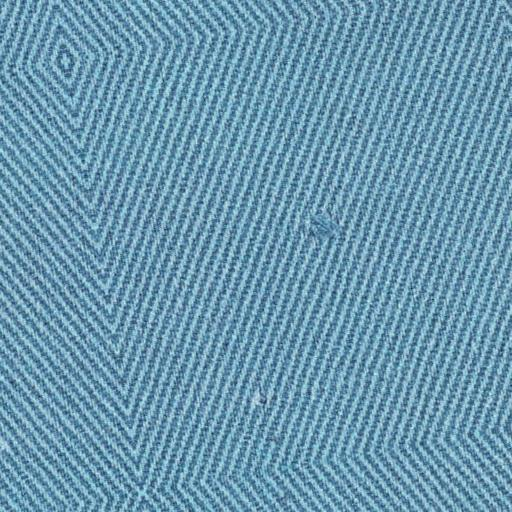knot: (288, 202, 353, 249)
